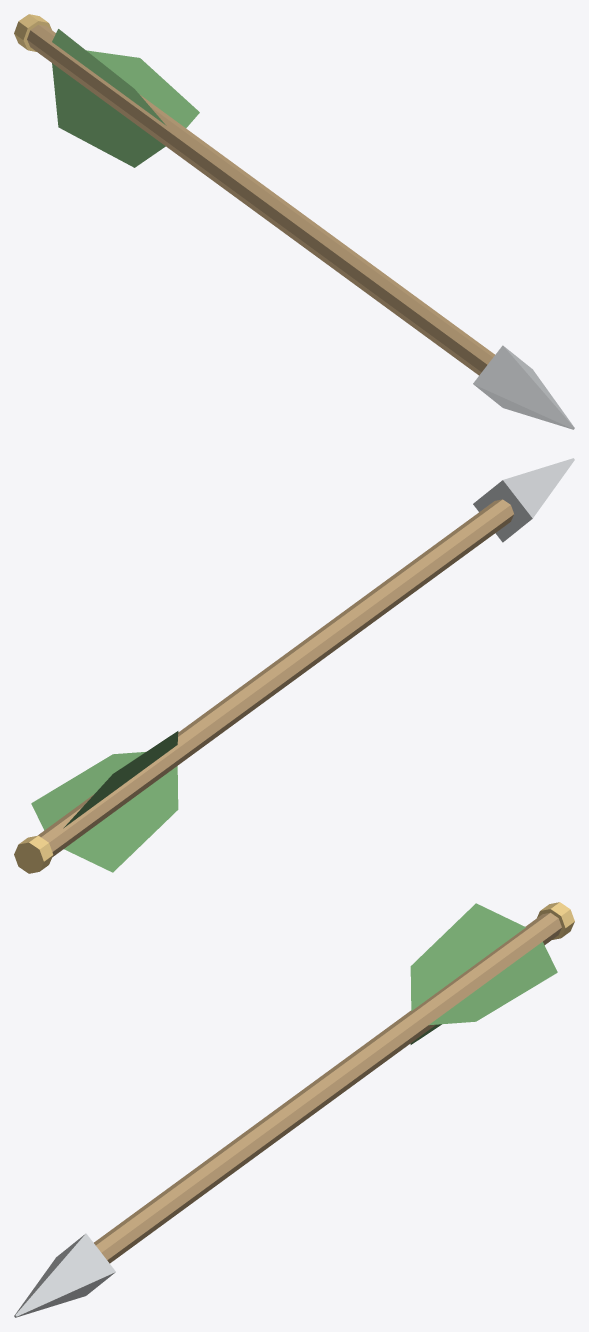
File: elira_arrow.glb
3 views of the same model, one above another, from view 1: azimuth 30°, elevation 25°; view 2: azimuth 150°, elevation 25°; view 3: azimuth 330°, elevation 25° (orthographic).
Visible parts, largest first — view 1: EliraArrow; view 2: EliraArrow; view 3: EliraArrow.
Part boxes in pixels (x1,y1,x2,y2): EliraArrow: (14, 14, 574, 429); EliraArrow: (14, 458, 574, 873); EliraArrow: (14, 902, 574, 1317).
Bounding box in the file's own units: 0.031 × 0.0346 × 0.346.
